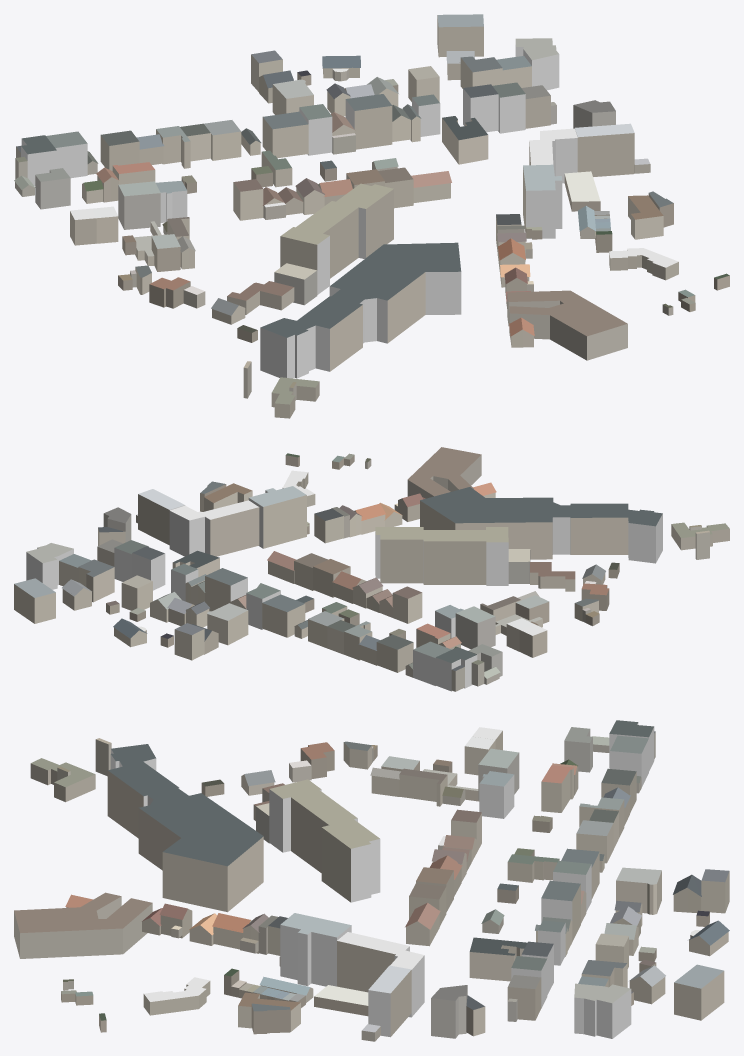
3 views of the same model, one above another, from view 1: azimuth 30°, elevation 25°; view 2: azimuth 150°, elevation 25°; view 3: azimuth 270°, elevation 25° (orthographic). The views are drawn at different scales.
Parts seen in each view (by area): view 1: tuile; view 2: tuile; view 3: tuile.
Part boxes in pixels (x1,y1,x2,y2): tuile: (14,14,729,418); tuile: (14,447,729,691); tuile: (14,720,729,1041).
Size of the model in its own units: 255 by 30.19 by 270.
